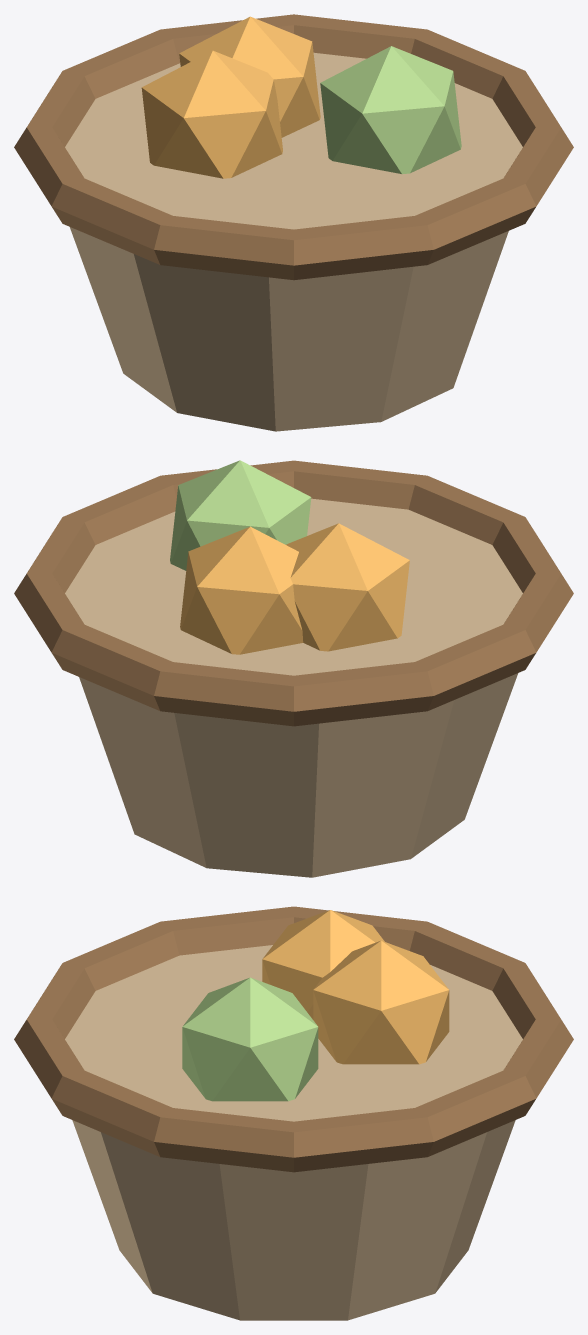
Rendered from ASTX_PROP_BASKET.glb.
3 renders of one model, top to bottom at view 1: azimuth 30°, elevation 25°; view 2: azimuth 150°, elevation 25°; view 3: azimuth 270°, elevation 25°, orthographic.
Parts seen in each view (by area): view 1: ASTX_PROP_BASKET_body, ASTX_PROP_BASKET_rim, ASTX_PROP_BASKET_fruit1, ASTX_PROP_BASKET_fruit0, ASTX_PROP_BASKET_fruit2; view 2: ASTX_PROP_BASKET_body, ASTX_PROP_BASKET_rim, ASTX_PROP_BASKET_fruit2, ASTX_PROP_BASKET_fruit0, ASTX_PROP_BASKET_fruit1; view 3: ASTX_PROP_BASKET_body, ASTX_PROP_BASKET_rim, ASTX_PROP_BASKET_fruit1, ASTX_PROP_BASKET_fruit2, ASTX_PROP_BASKET_fruit0.
Boxes of the visible parts, <box> form: ASTX_PROP_BASKET_body: <box>65,52,522,431</box>; ASTX_PROP_BASKET_rim: <box>14,14,573,280</box>; ASTX_PROP_BASKET_fruit1: <box>320,46,461,174</box>; ASTX_PROP_BASKET_fruit0: <box>141,50,282,178</box>; ASTX_PROP_BASKET_fruit2: <box>179,16,320,137</box>; ASTX_PROP_BASKET_body: <box>65,498,522,877</box>; ASTX_PROP_BASKET_rim: <box>14,460,573,726</box>; ASTX_PROP_BASKET_fruit2: <box>180,526,303,654</box>; ASTX_PROP_BASKET_fruit0: <box>286,523,409,651</box>; ASTX_PROP_BASKET_fruit1: <box>170,460,311,570</box>; ASTX_PROP_BASKET_body: <box>65,945,522,1320</box>; ASTX_PROP_BASKET_rim: <box>14,906,573,1172</box>; ASTX_PROP_BASKET_fruit1: <box>182,977,318,1101</box>; ASTX_PROP_BASKET_fruit2: <box>313,940,449,1064</box>; ASTX_PROP_BASKET_fruit0: <box>262,910,384,1019</box>.
Size of the model in its own units: 0.77 by 0.47 by 0.77.
